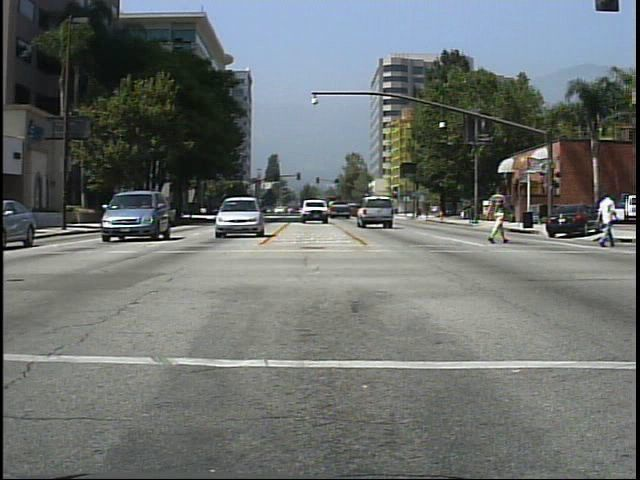person: (588, 184, 625, 255), (484, 182, 512, 248)
